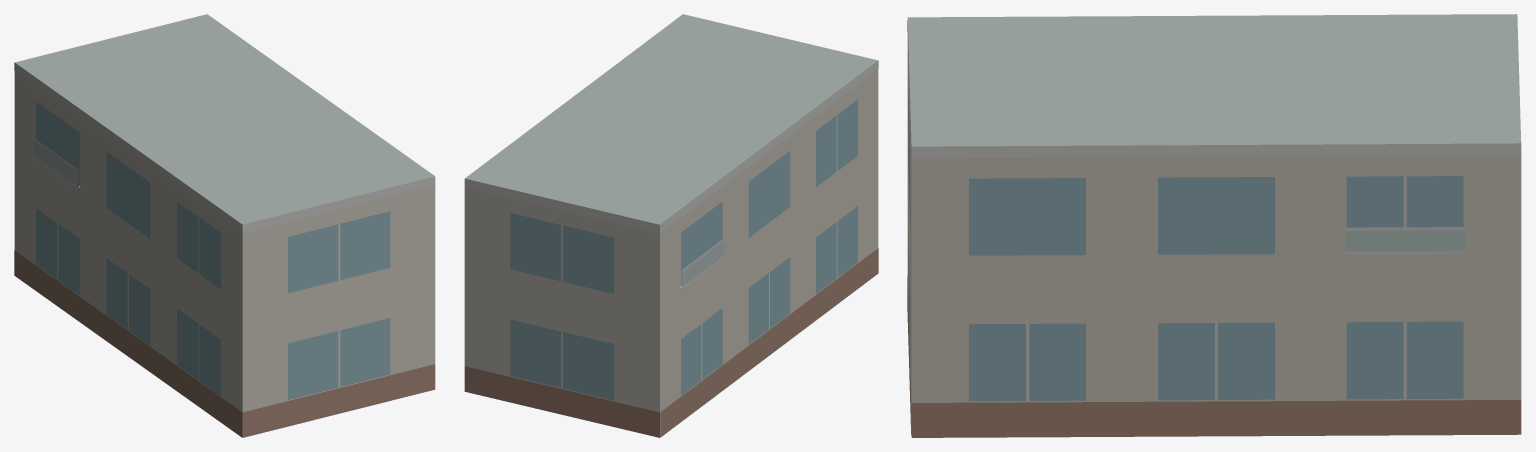
Rendered from survey-upis-32498969.glb.
3 renders of one model, left to right at view 1: azimuth 30°, elevation 25°; view 2: azimuth 150°, elevation 25°; view 3: azimuth 270°, elevation 25°, orthographic. The views are drawn at different scales.
Visible parts, largest first — view 1: survey-upis-32498969.tmp; view 2: survey-upis-32498969.tmp; view 3: survey-upis-32498969.tmp.
Part boxes in pixels (x1,y1,x2,y2): survey-upis-32498969.tmp: (14,14,435,437); survey-upis-32498969.tmp: (464,14,878,437); survey-upis-32498969.tmp: (907,14,1521,437).
Size of the model in its own units: 5.11 by 5.2 by 9.94.
